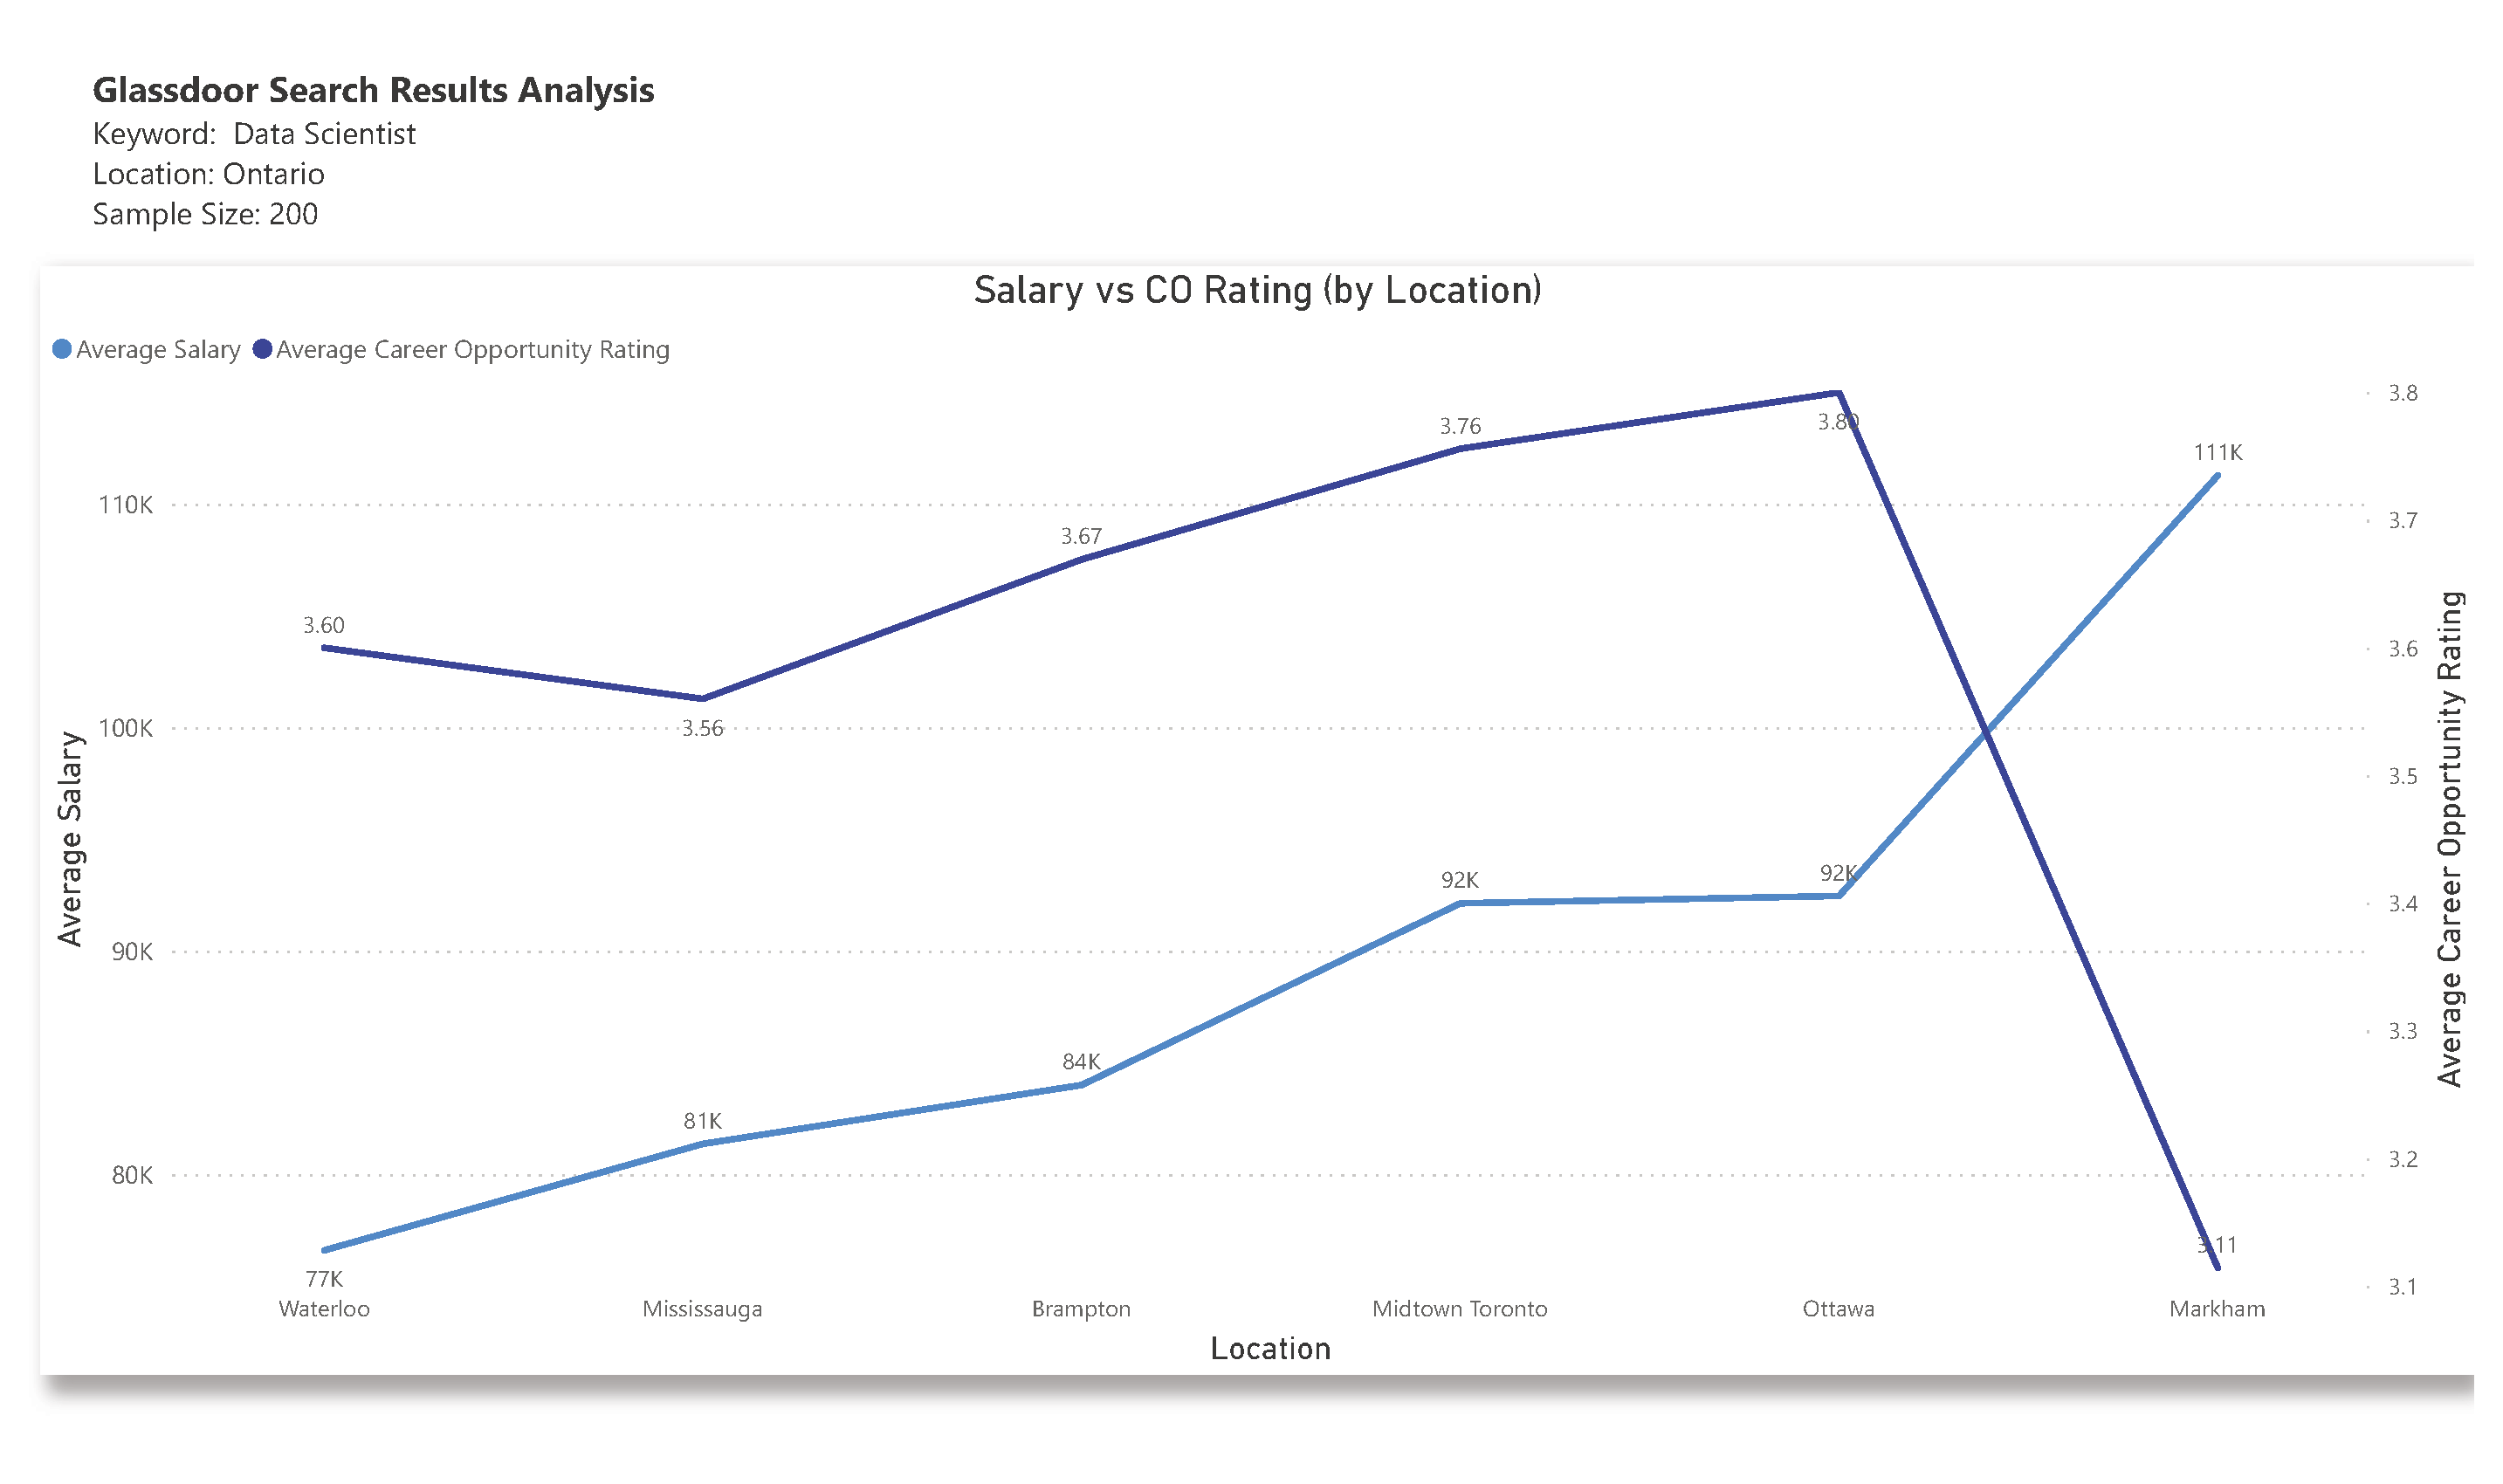

Layout of this report page (visuals, bound fields, positions):
{"tool":"powerbi","page":{"name":"Locaiton","canvas":[1280,720],"ordinal":0},"visuals":[{"type":"lineChart","title":"Salary vs CO Rating (by Location)","fields":{"Category":["location average.Location"],"Y":["Sum(location average.Estimated Salary)"],"Y2":["Sum(location average.Career Opportunitie)"]},"box":[6.2,111,1274,579.7],"z":0},{"type":"textbox","box":[28.4,0,353.3,98.5],"z":1000}]}

Visuals, with their boxes on the page's 1280x720 design canvas (x1, y1, x2, y2). These are canvas units, not pixel positions in the 2503x1484 screenshot, which may show the page scaled, cropped or inside an application window:
"Salary vs CO Rating (by Location)" lineChart: bbox=(6, 111, 1280, 691)
textbox: bbox=(28, 0, 382, 98)
